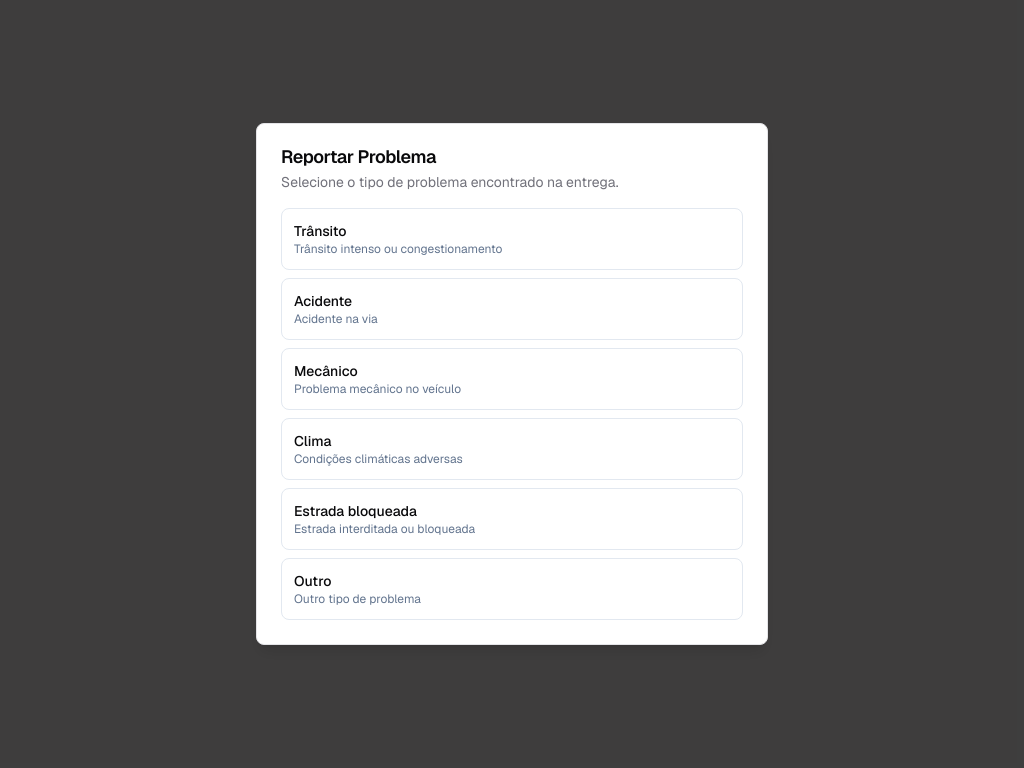
Test: ReportProblemDialog › mostra mensagem de sucesso após submit
Click the text "Trânsito": (320, 231) [294,222,346,240]
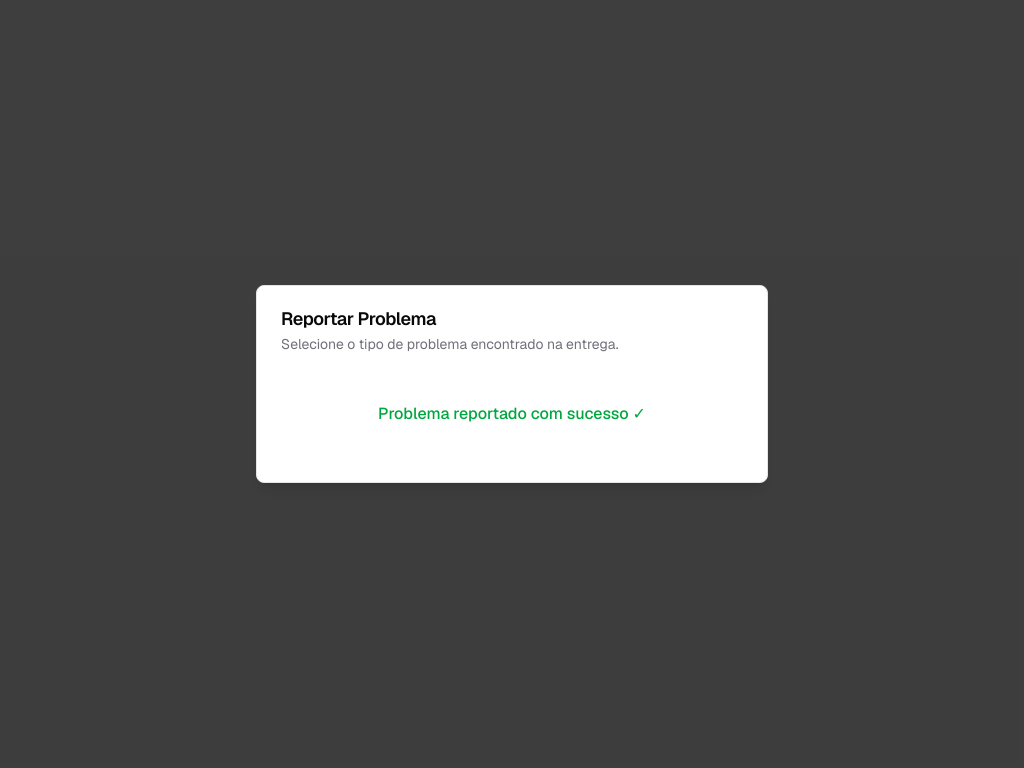
Now the text "Problema reportado com sucesso ✓" is shown, box [378,403,646,424]
